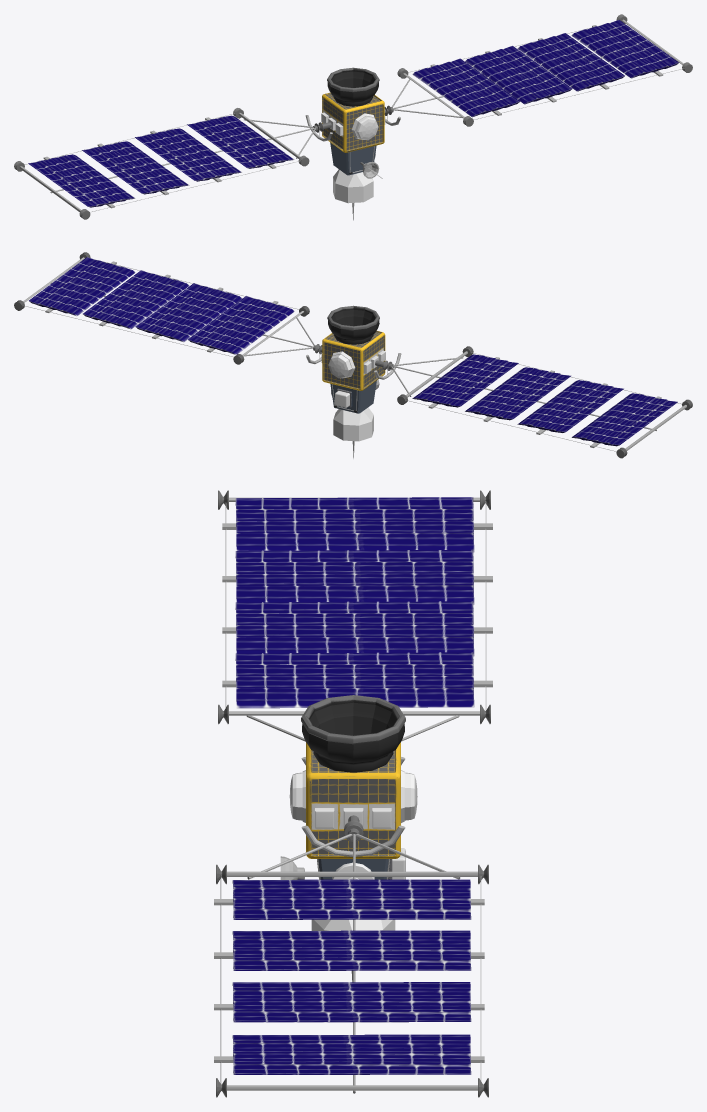
The model's file is sat-oBJKA.glb.
3 views of the same model, one above another, from view 1: azimuth 30°, elevation 25°; view 2: azimuth 150°, elevation 25°; view 3: azimuth 270°, elevation 25° (orthographic). The views are drawn at different scales.
Parts seen in each view (by area): view 1: Object_3, Object_4; view 2: Object_3, Object_4; view 3: Object_3, Object_4.
Part boxes in pixels (x1=…): Object_3: x1=14, y1=14, x2=692, y2=220; Object_4: x1=14, y1=20, x2=678, y2=217; Object_3: x1=14, y1=252, x2=690, y2=458; Object_4: x1=23, y1=257, x2=692, y2=456; Object_3: x1=214, y1=490, x2=490, y2=1097; Object_4: x1=218, y1=490, x2=492, y2=1080.
Size of the model in its own units: 79.21 by 18.04 by 15.66.
Materials: 1 (1 with a texture image).
